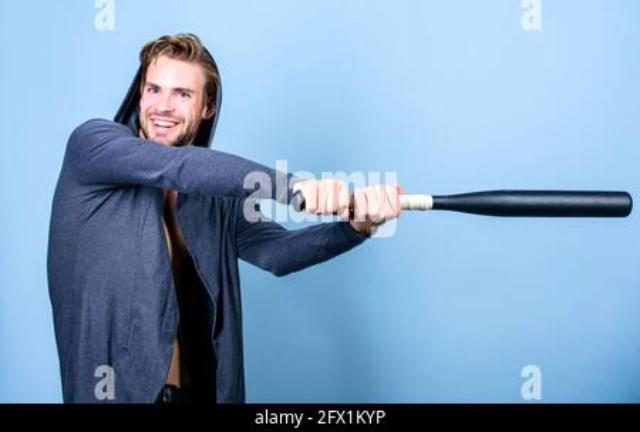baseball bat: (284, 190, 636, 218)
